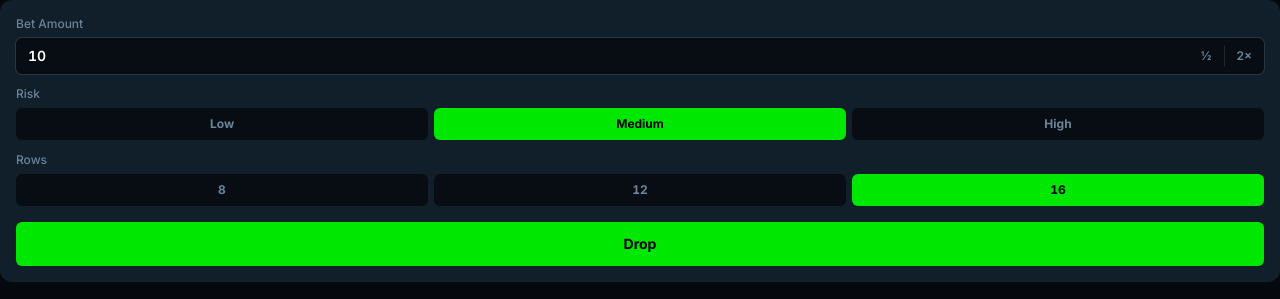
PlinkoControls › can be spammed — each click stacks another ball and deducts a stake
What coordinates should you click on to do the following:
click the button "Drop"
I would click on:
 (640, 244)
Its box is left=16, top=222, right=1264, bottom=266.
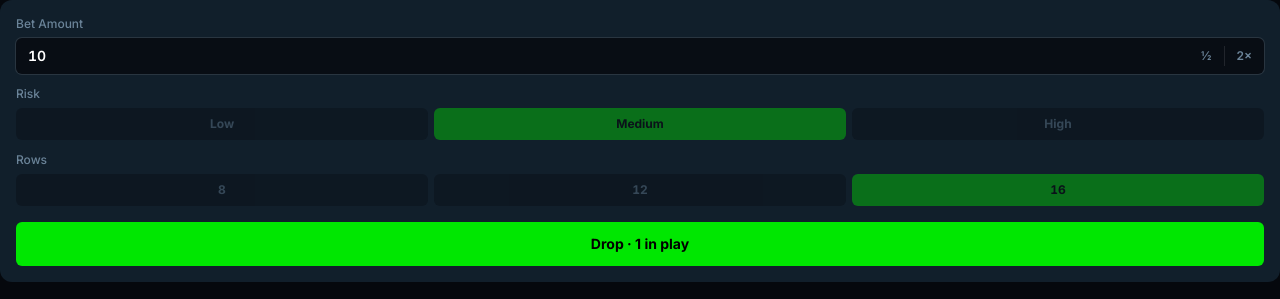
What coordinates should you click on to do the following:
click the button "Drop · 1 in play"
I would click on:
 (640, 244)
Its box is left=16, top=222, right=1264, bottom=266.
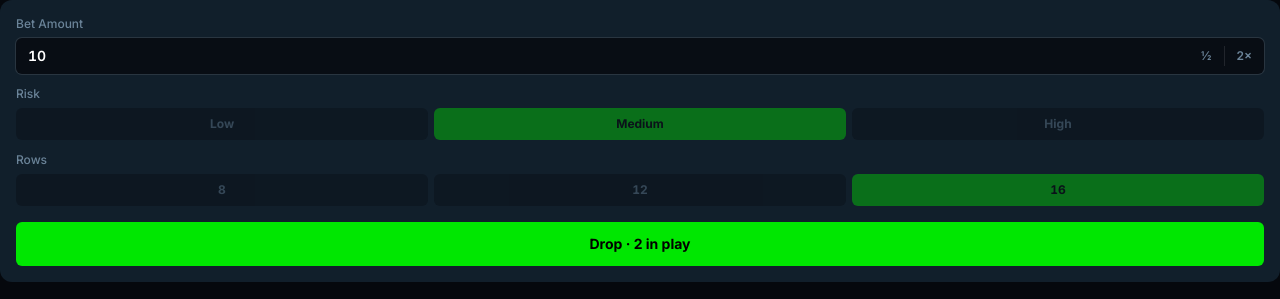
What coordinates should you click on to do the following:
click the button "Drop · 2 in play"
I would click on:
 (640, 244)
Its box is left=16, top=222, right=1264, bottom=266.
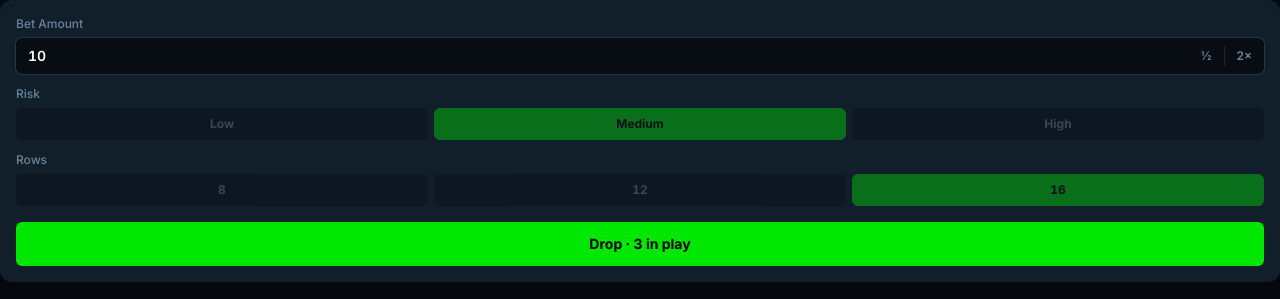
Expected: the button "Drop · 3 in play" is shown, left=16, top=222, right=1264, bottom=266
